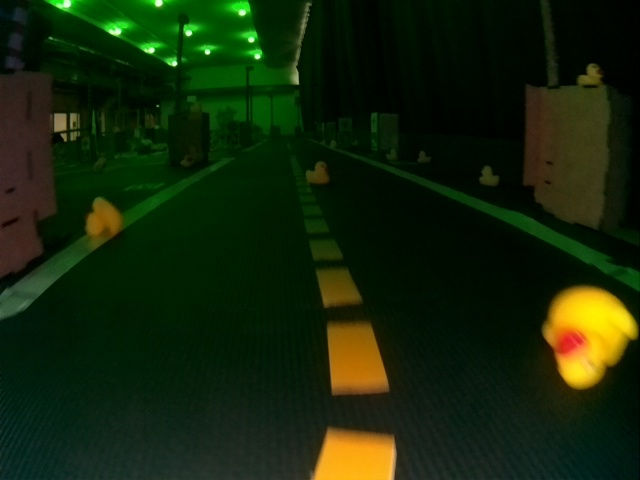Duckie: (544, 286, 638, 389), (87, 197, 120, 237), (577, 63, 604, 86), (305, 161, 329, 185), (478, 166, 498, 186), (180, 154, 192, 167), (417, 151, 430, 163), (386, 149, 396, 157)
QR code: (125, 183, 164, 192)
